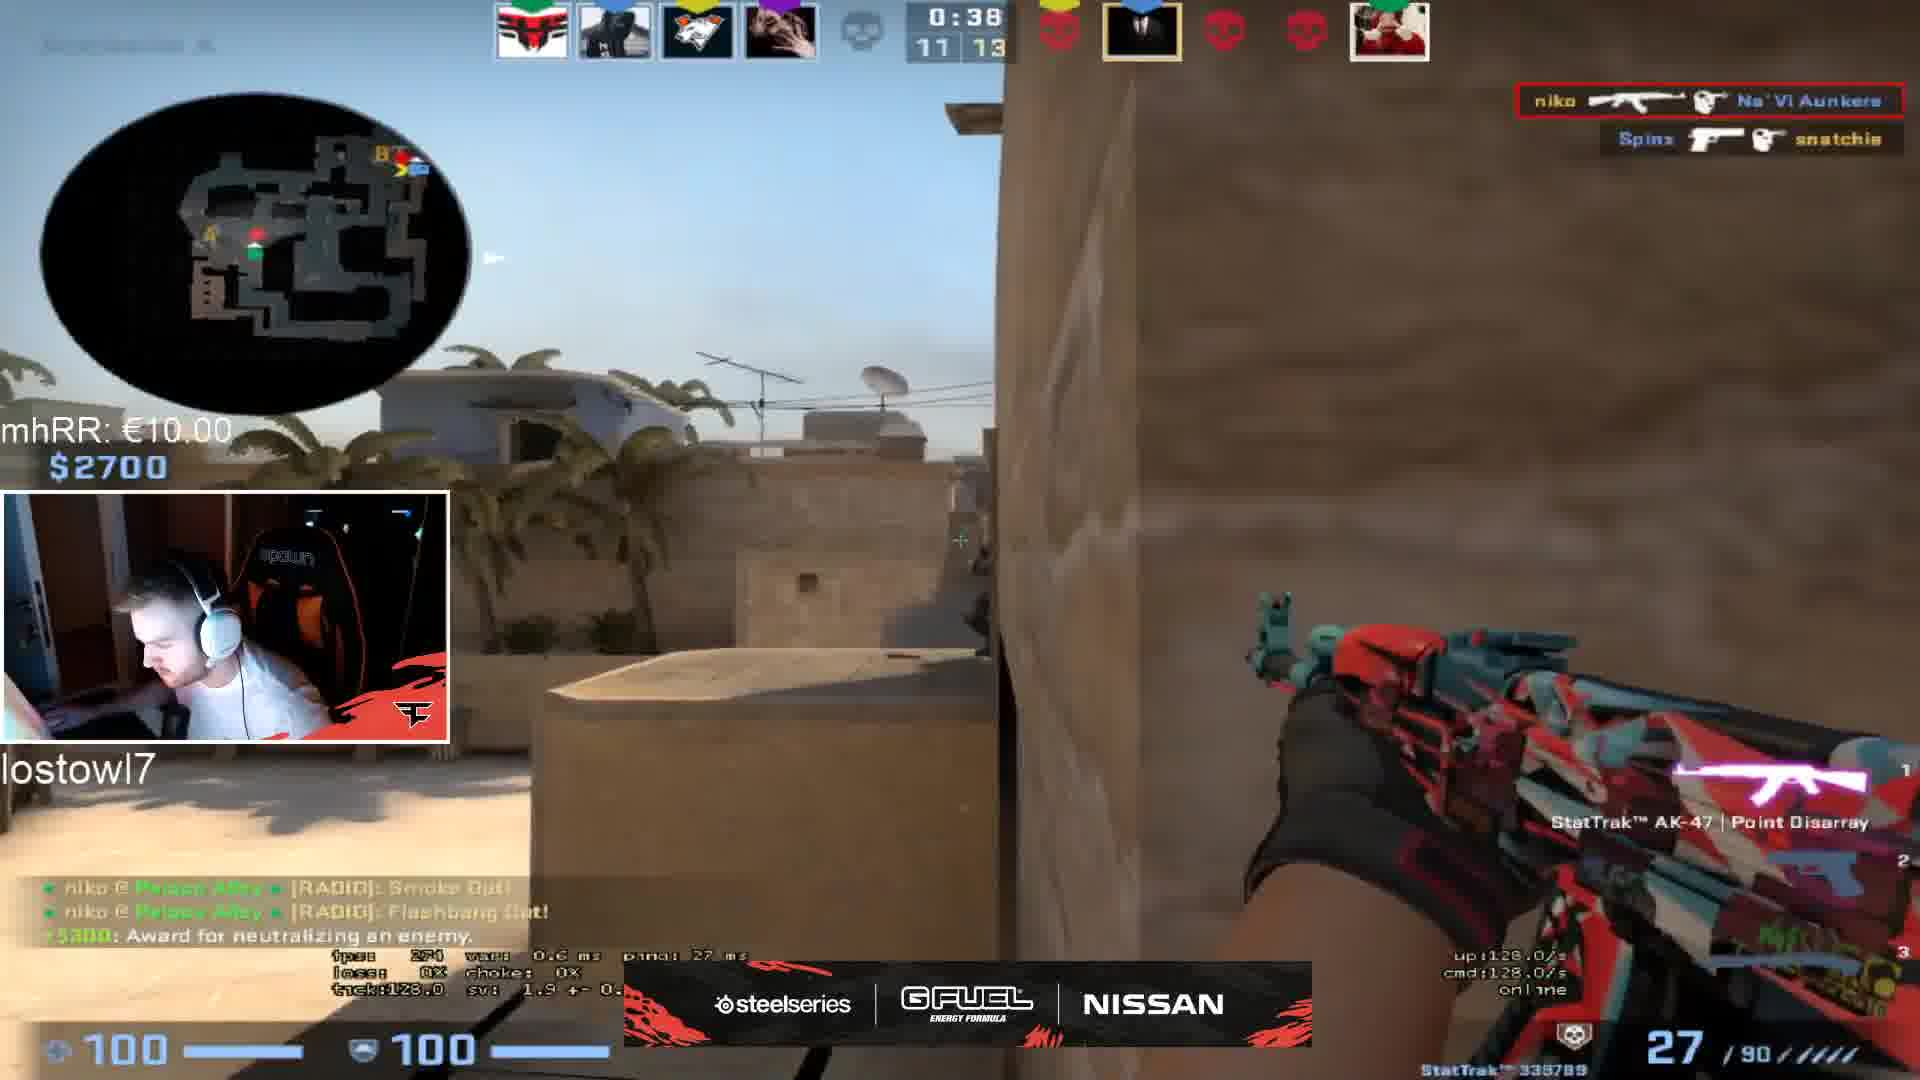enemy: (957, 529, 1004, 659)
